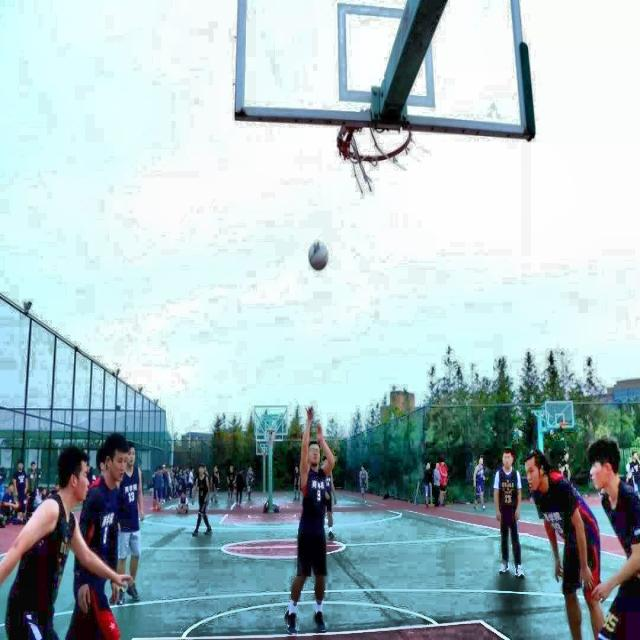board: (308, 241, 328, 269)
